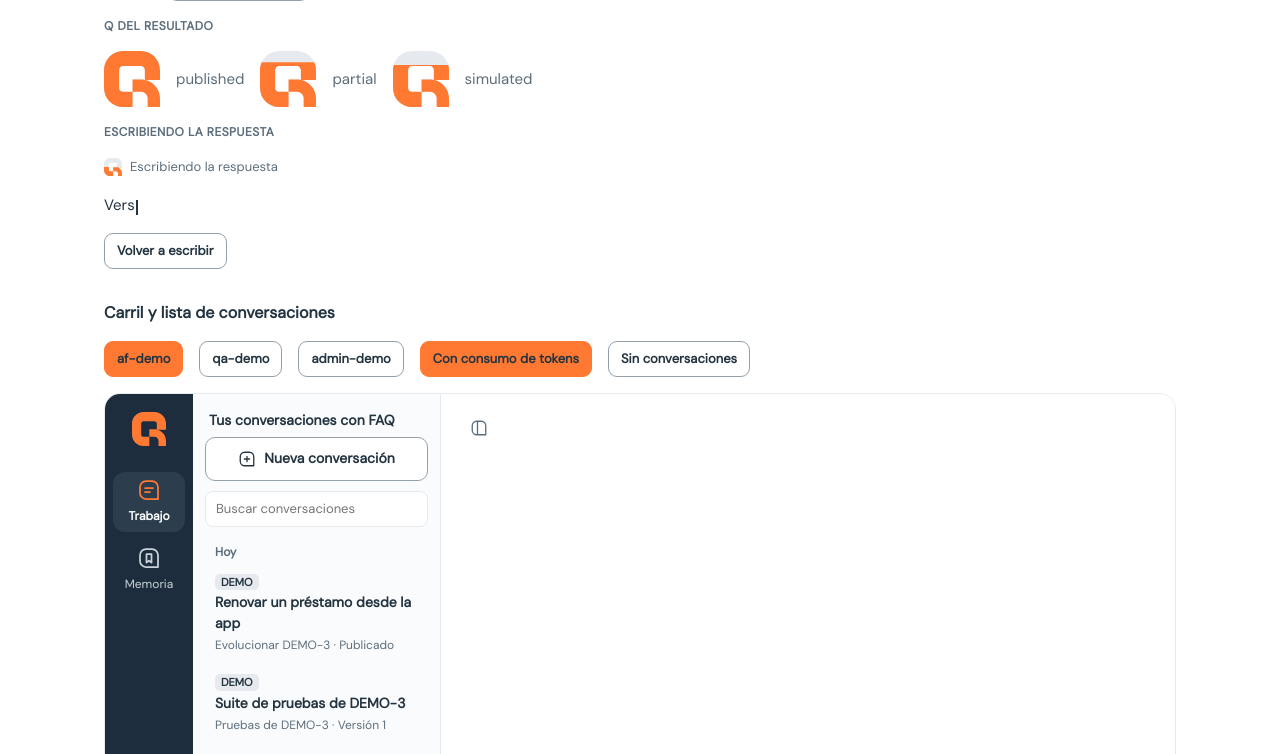
Test: Catalog: demo del carril y la lista › con af-demo el carril solo tiene Trabajo; con admin-demo, Historial y Ajustes (decisión 16)
The width and height of the screenshot is (1280, 754).
(page scrolled)
Expected: the button "Historial" is not shown
Click the button "admin-demo" at (351, 358), box [298,340,404,376]
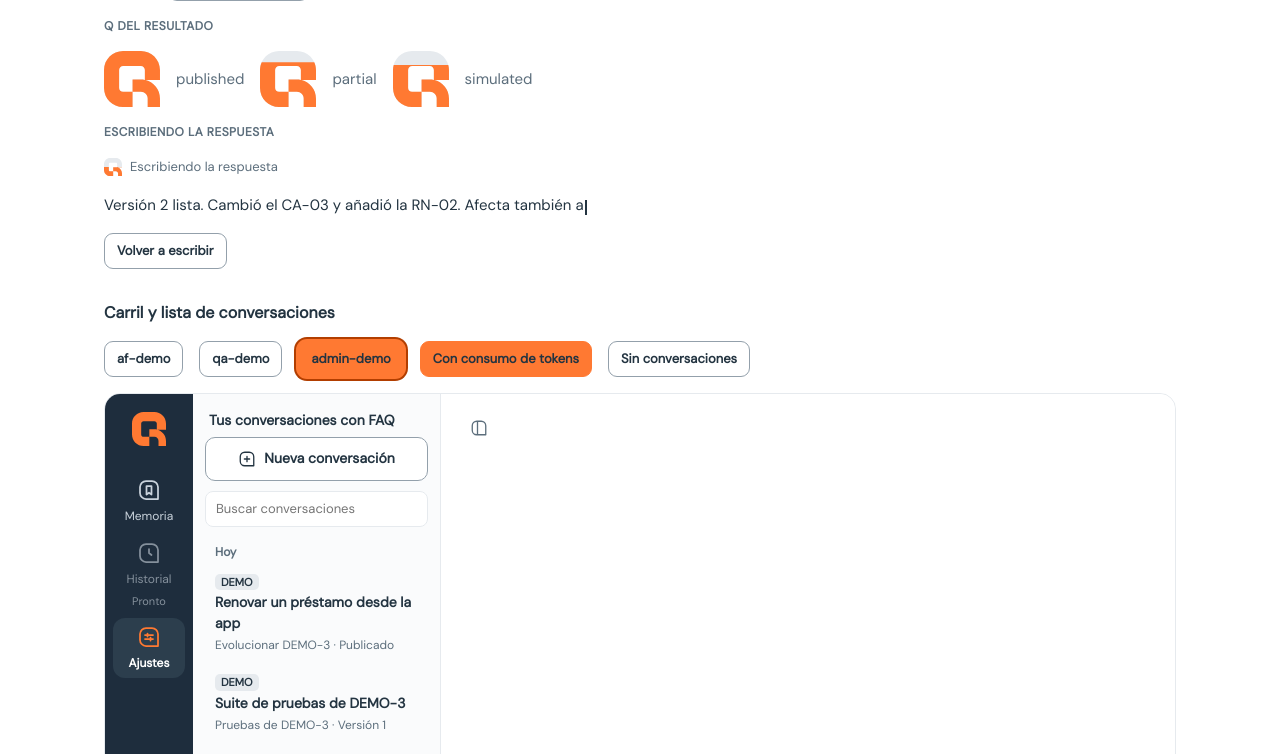
Expected: the button "Trabajo" is gone
